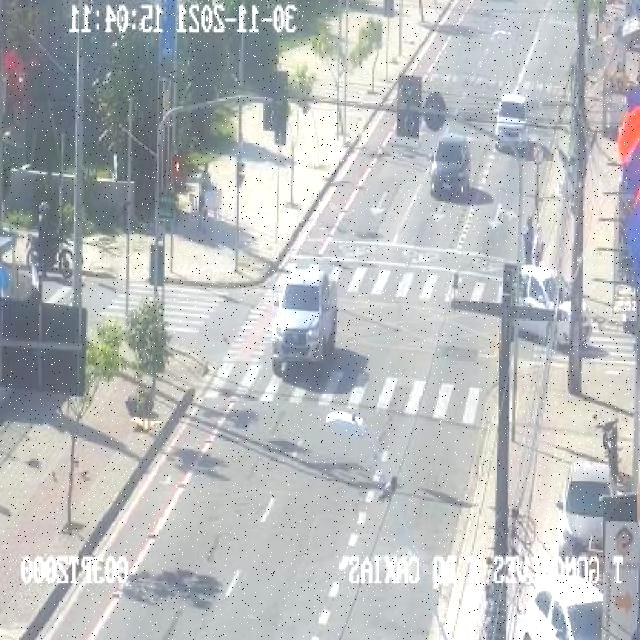Car: (270, 270, 336, 378), (513, 260, 593, 349), (557, 458, 618, 565), (518, 572, 602, 640), (428, 134, 472, 202), (492, 92, 531, 154)
Cycle: (24, 230, 74, 279)
